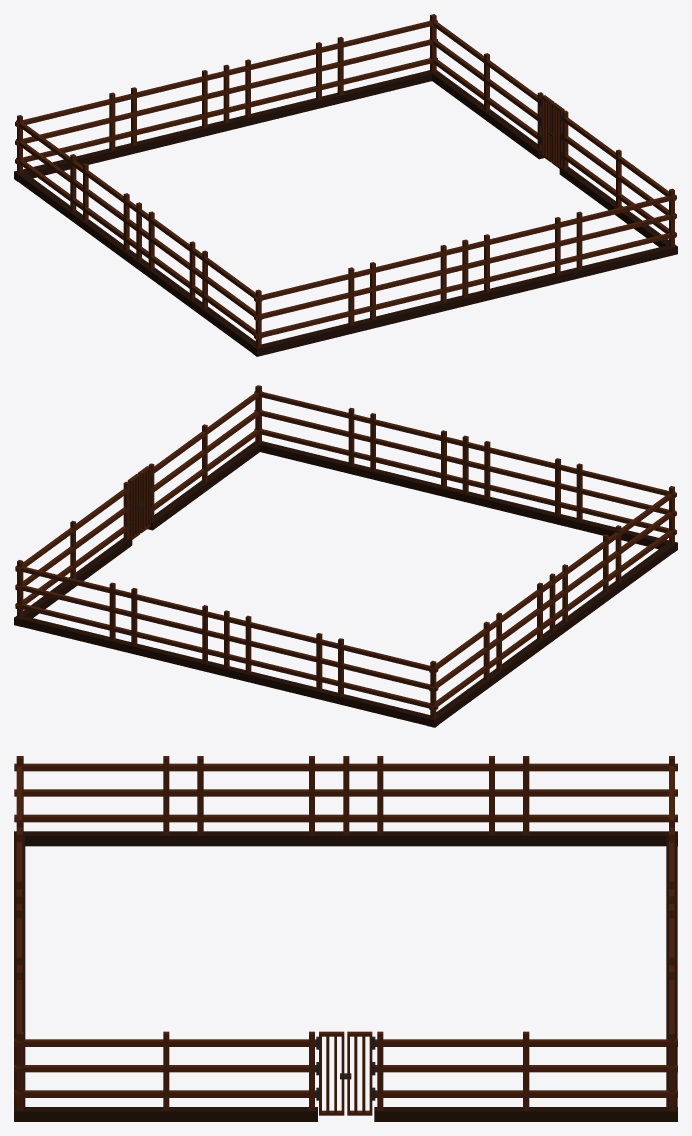
Rendered from shopFence.obj.
The picture shows the model from 3 angles, top to bottom: view 1: azimuth 30°, elevation 25°; view 2: azimuth 150°, elevation 25°; view 3: azimuth 270°, elevation 25°; orthographic projection. The views are drawn at different scales.
Visible parts, largest first — view 1: Cube.003; view 2: Cube.003; view 3: Cube.003.
Part boxes in pixels (bbox=[...]): Cube.003: bbox=[14, 14, 677, 356]; Cube.003: bbox=[14, 385, 677, 727]; Cube.003: bbox=[14, 756, 677, 1121].
Bounding box in the file's own units: 59.04 × 8.5 × 59.04.
